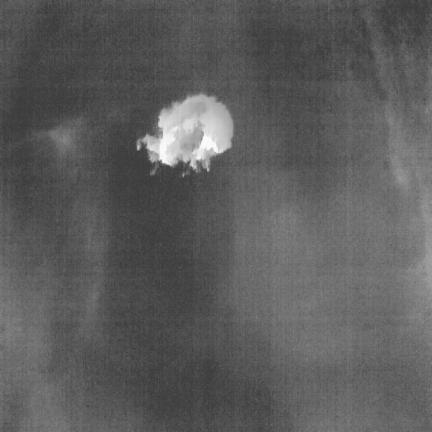flukeprints: (137, 94, 233, 176)
